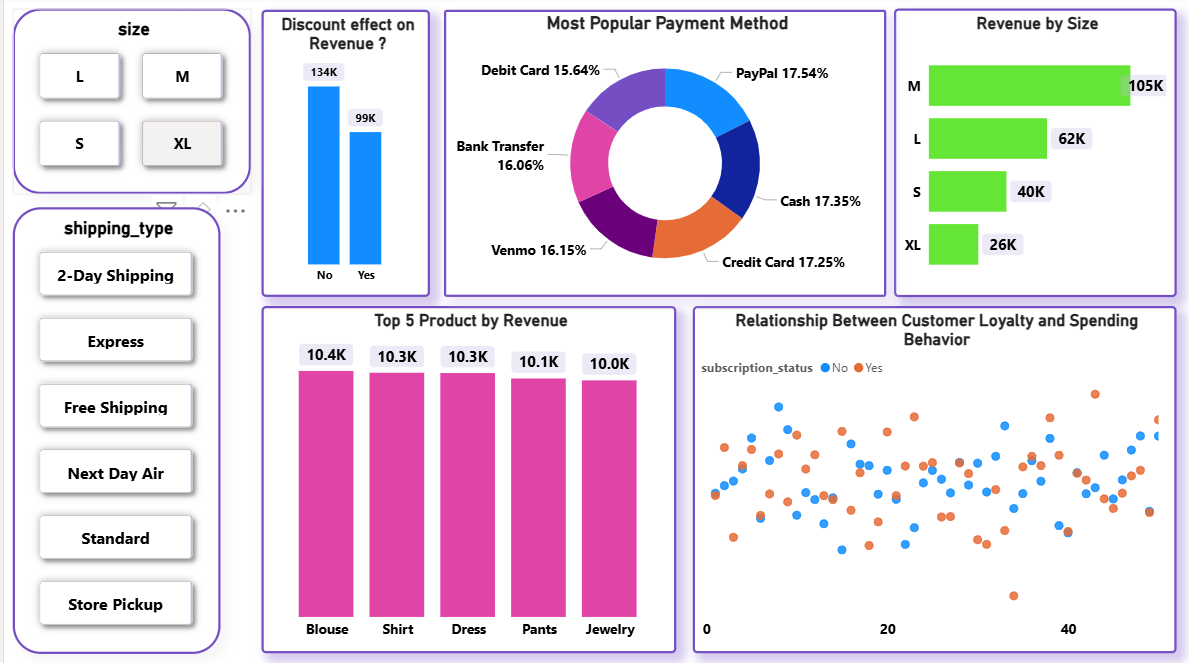

Layout of this report page (visuals, bound fields, positions):
{"tool":"powerbi","page":{"name":"Operations, Satisfaction & Performance","canvas":[1280,720],"ordinal":2},"visuals":[{"type":"clusteredColumnChart","title":"Discount effect on Revenue ?","fields":{"Category":["public customer.discount_applied"],"Y":["public customer.total_revenue"]},"box":[277.6,14.8,181.9,310],"z":0},{"type":"clusteredBarChart","title":"Revenue by Size","fields":{"Category":["public customer.size"],"Y":["public customer.total_revenue"]},"box":[959.5,13.5,304.6,311.3],"z":1000},{"type":"clusteredColumnChart","title":"Top 5 Product by Revenue","fields":{"Category":["public customer.item_purchased"],"Y":["Sum(public customer.purchase_amount)"]},"box":[277.6,334.2,447.4,374.6],"z":2000},{"type":"scatterChart","title":"Relationship Between Customer Loyalty and Spending Behavior","fields":{"X":["public customer.previous_purchases"],"Y":["Avg(public customer.purchase_amount)"],"Series":["public customer.subscription_status"]},"box":[742.6,334.2,521.5,374.6],"z":3000},{"type":"advancedSlicerVisual","fields":{"Values":["public customer.size"]},"box":[9.6,13.7,256.6,200.3],"z":4000},{"type":"advancedSlicerVisual","fields":{"Values":["public customer.shipping_type"]},"box":[9.6,227.8,223.7,481.6],"z":5000},{"type":"donutChart","title":"Most Popular Payment Method","fields":{"Y":["Sum(public customer.customer_id)"],"Category":["public customer.payment_method"]},"box":[474.4,14.8,477.1,310],"z":6000}]}

Visuals, with their boxes in screenshot pixels (x1, y1, x2, y2), scaled from the page's 1280x720 canvas onto the 1189x663 screenshot:
"Discount effect on Revenue ?" clusteredColumnChart: bbox=(258, 14, 427, 299)
"Revenue by Size" clusteredBarChart: bbox=(891, 12, 1174, 299)
"Top 5 Product by Revenue" clusteredColumnChart: bbox=(258, 308, 673, 653)
"Relationship Between Customer Loyalty and Spending Behavior" scatterChart: bbox=(690, 308, 1174, 653)
advancedSlicerVisual - public customer.size: bbox=(9, 13, 247, 197)
advancedSlicerVisual - public customer.shipping_type: bbox=(9, 210, 217, 653)
"Most Popular Payment Method" donutChart: bbox=(441, 14, 884, 299)
